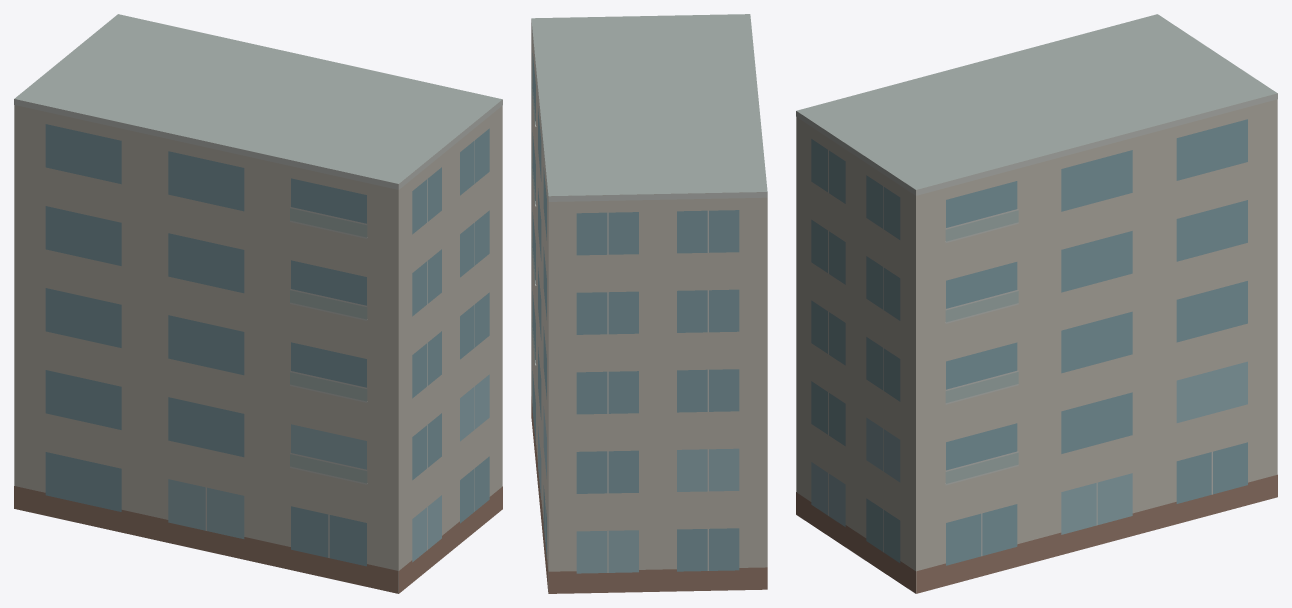
The model's file is survey-upis-32880430.glb.
The picture shows the model from 3 angles, left to right: view 1: azimuth 30°, elevation 25°; view 2: azimuth 150°, elevation 25°; view 3: azimuth 270°, elevation 25°; orthographic projection. The views are drawn at different scales.
Parts seen in each view (by area): view 1: survey-upis-32880430.tmp; view 2: survey-upis-32880430.tmp; view 3: survey-upis-32880430.tmp.
Part boxes in pixels (<box>): survey-upis-32880430.tmp: <box>14,14,502,593</box>; survey-upis-32880430.tmp: <box>531,14,767,593</box>; survey-upis-32880430.tmp: <box>796,14,1277,593</box>.
Bounding box in the file's own units: 15.62 × 16.7 × 18.06.
